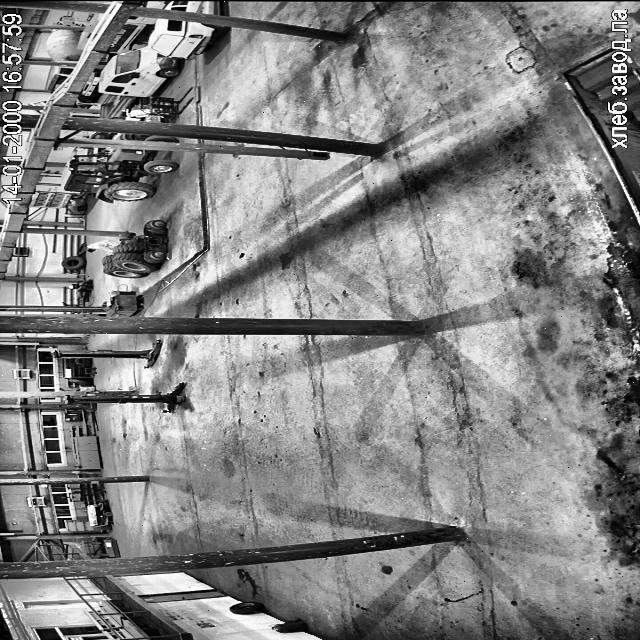class4: (86, 240, 120, 252)
class6: (61, 148, 178, 202), (102, 220, 165, 278), (143, 136, 177, 142), (105, 139, 116, 147)
class7: (99, 47, 179, 116), (148, 20, 228, 60), (108, 16, 156, 52), (78, 14, 103, 48), (165, 0, 218, 14), (45, 66, 73, 92), (77, 75, 100, 104), (140, 0, 164, 8)
tractor: (272, 619, 306, 632)
truck: (64, 383, 185, 412), (52, 340, 161, 368)
